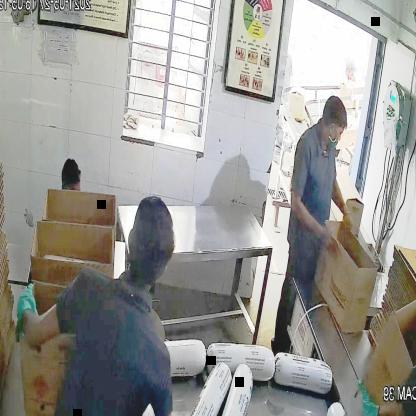no_goggles: (326, 122, 348, 146)
